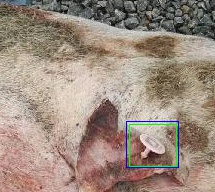text: (129, 124, 176, 166)
